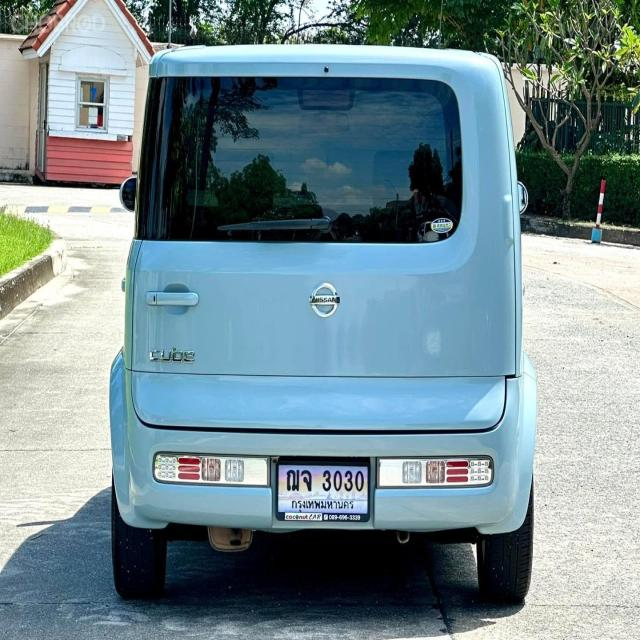license_plate: (274, 454, 376, 528)
